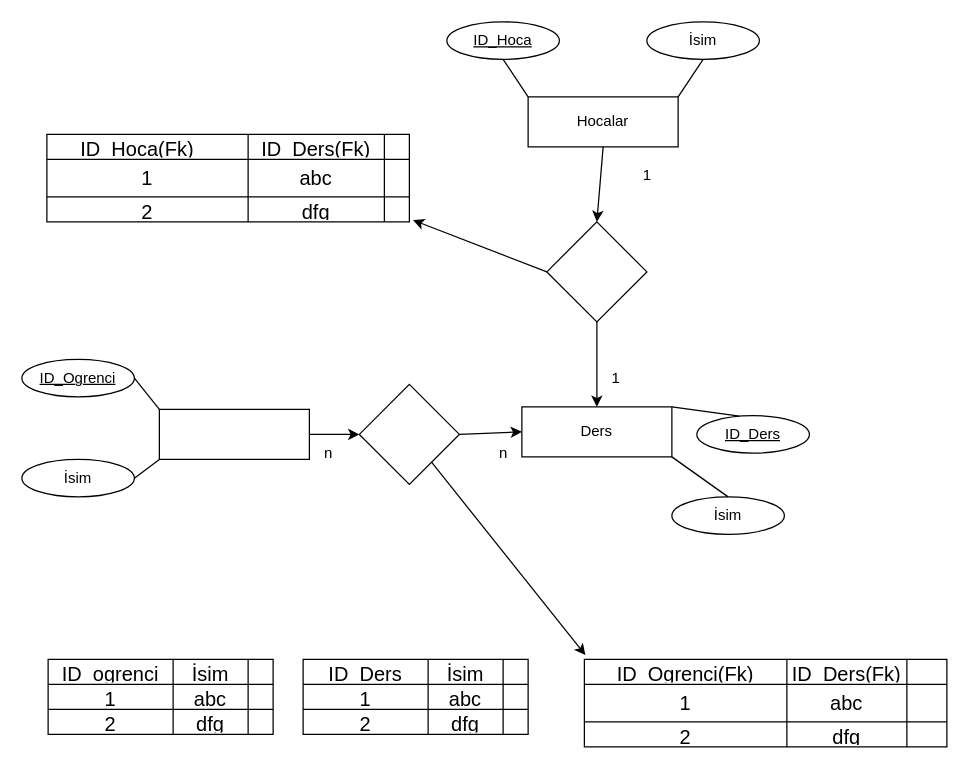
The diagram is 969 pixels wide and 769 high, and some of its shapes have lost their labels. The shapes that lost their labels are listed below. From the top down, each one's centre as x and y in pixels, then its label:
At (596,271): "Verir".
At (233,433): "Ögrenci".
At (408,433): "Aldığı".
